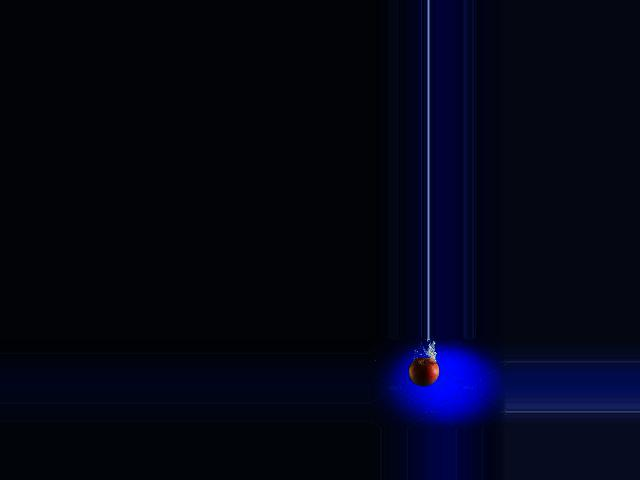tomato: (407, 357, 438, 385)
